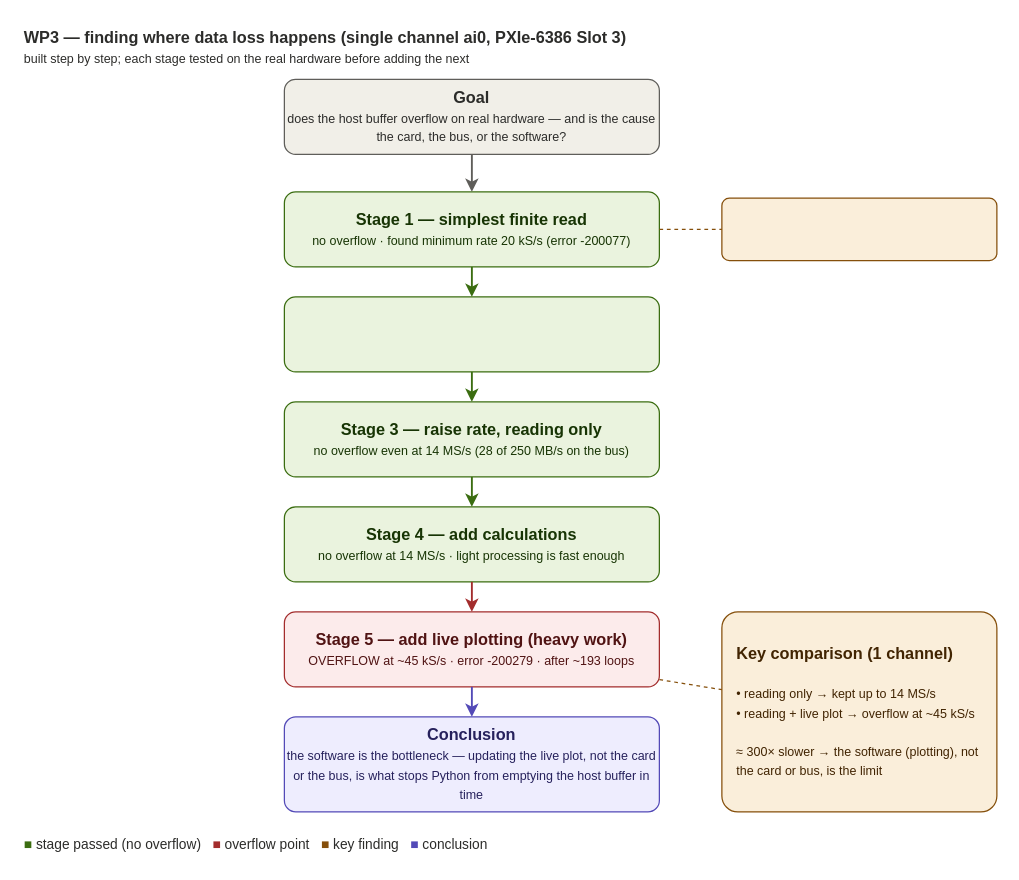
Image size: 1019x880. Some labels were removed from this diagram. The shapes that lost their labels are listed below. From the top down, each one's box as (x1, y1, x2, y2) in pixels, then its label:
(721, 197, 997, 261): Hardware confirmed 20 kS/s minimum sample rate
(283, 296, 659, 372): Stage 2 — continuous read loop no overflow · Python faster than the card
